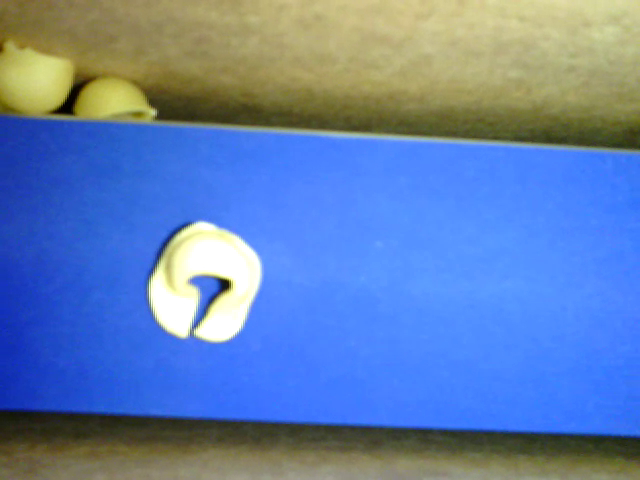shell: (1, 42, 79, 113), (74, 76, 163, 124)
tortellini: (147, 221, 266, 347)
